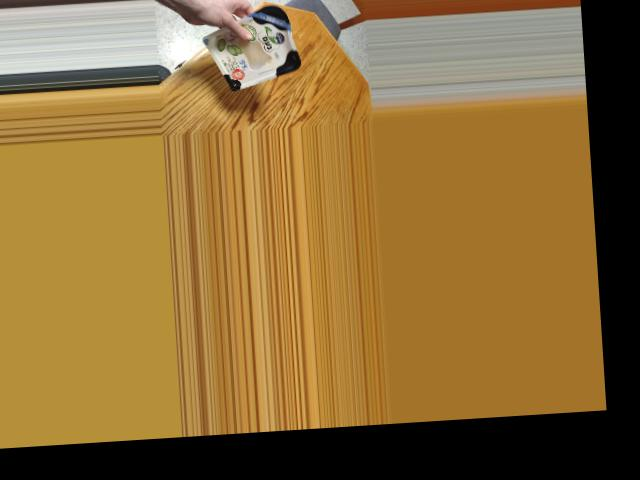cheese: (215, 1, 304, 90)
